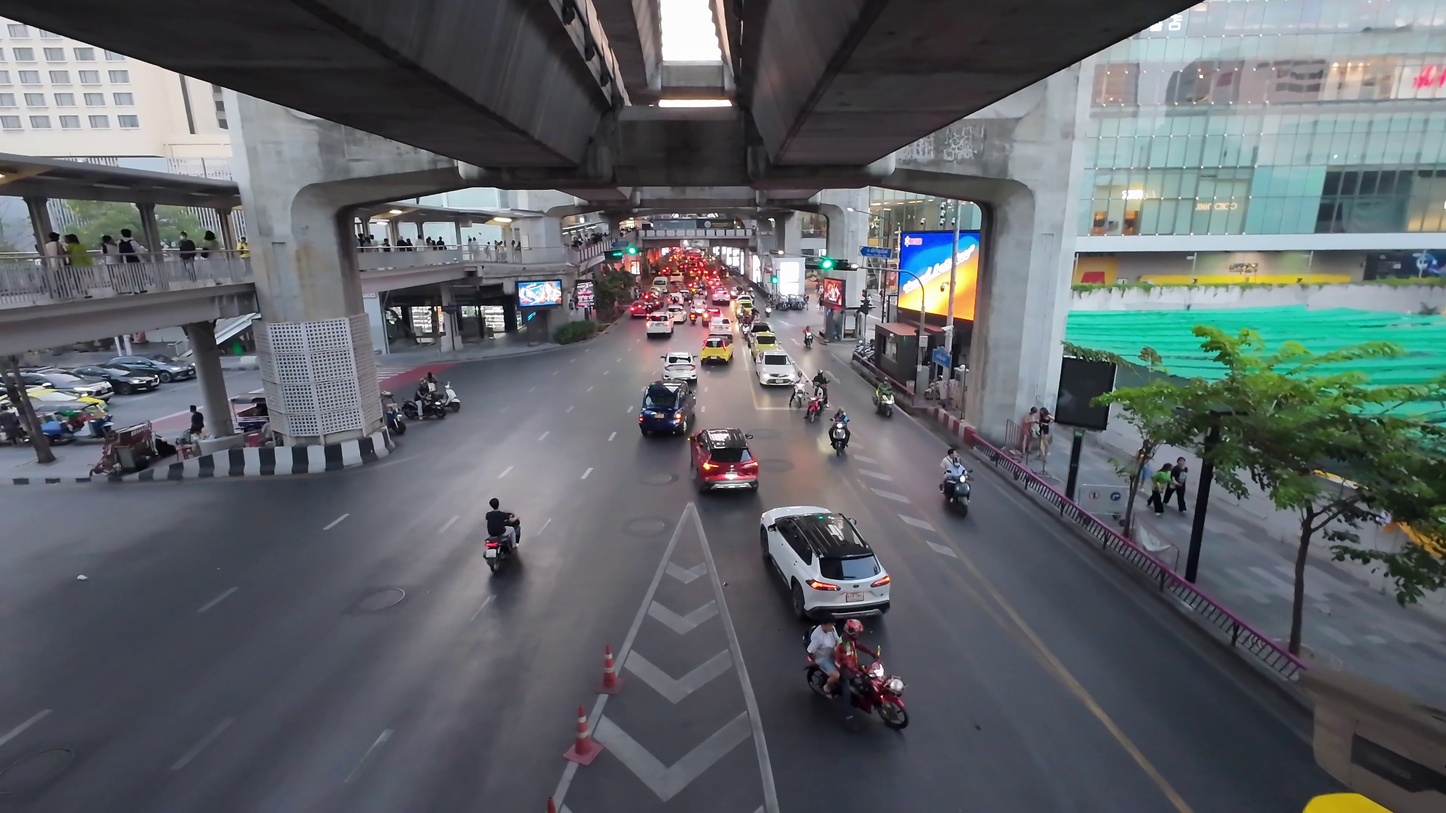license_plate: (793, 577, 860, 616), (706, 468, 740, 490), (653, 416, 680, 434), (493, 554, 513, 574), (948, 501, 965, 516), (767, 373, 787, 385), (708, 355, 726, 365), (832, 443, 845, 455)
motorcycle: (483, 499, 522, 578), (940, 456, 973, 520), (826, 409, 852, 458)
no_seatbelt: (779, 523, 874, 583), (699, 437, 747, 472), (647, 390, 686, 419), (763, 356, 791, 375), (705, 340, 730, 356)
